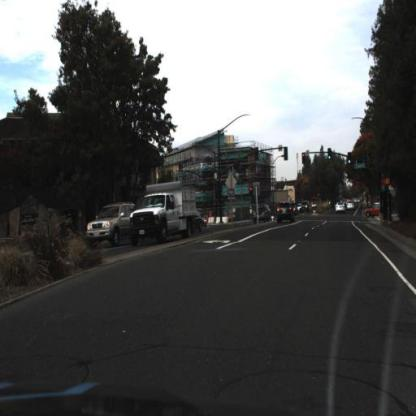car: (87, 200, 142, 251), (275, 197, 297, 227), (363, 199, 385, 222), (253, 202, 272, 227), (190, 210, 205, 238)
trafficLight-Green: (328, 147, 333, 165), (348, 152, 353, 169)
trafficLight-RedLeft: (302, 152, 306, 166)
truck: (128, 179, 198, 246)
